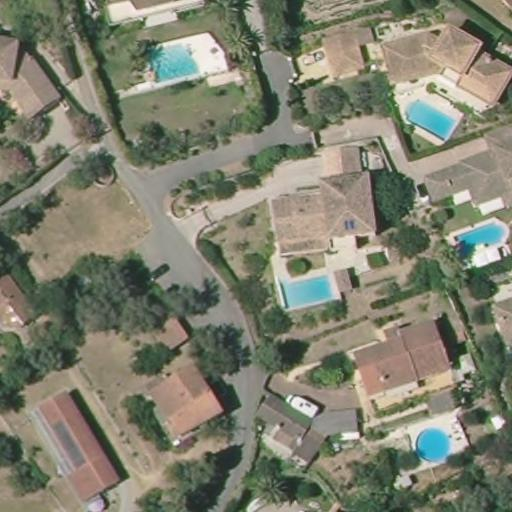pool: (137, 40, 207, 86), (435, 215, 511, 255), (272, 268, 342, 311), (403, 95, 462, 146), (410, 424, 454, 463)
